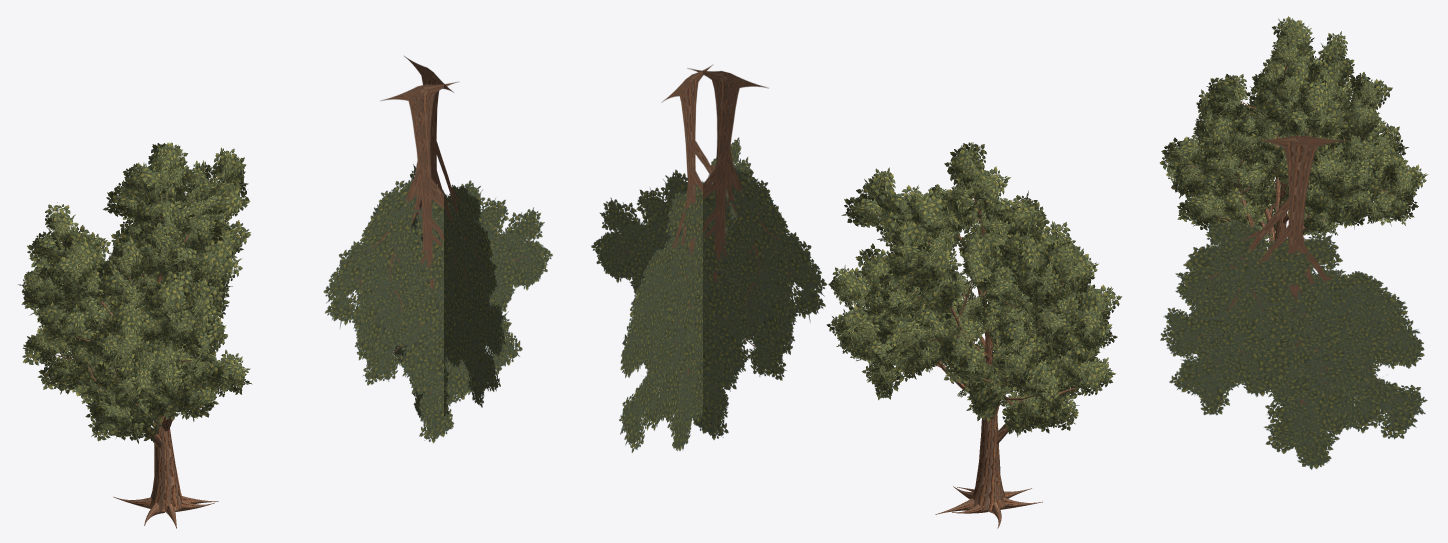
Rendered from tree9.glb.
The picture shows the model from 3 angles, left to right: view 1: azimuth 30°, elevation 25°; view 2: azimuth 150°, elevation 25°; view 3: azimuth 270°, elevation 25°; orthographic projection. The views are drawn at different scales.
Parts seen in each view (by area): view 1: Tree9_High, Empty.017; view 2: Tree9_High, Empty.017; view 3: Empty.017, Tree9_High.
Part boxes in pixels (<box>): Tree9_High: <box>18,142,252,528</box>; Empty.017: <box>323,56,552,443</box>; Tree9_High: <box>826,142,1121,528</box>; Empty.017: <box>591,64,827,452</box>; Empty.017: <box>1160,135,1427,469</box>; Tree9_High: <box>1159,16,1428,255</box>.
Bounding box in the file's own units: 97.44 × 67.19 × 49.27.
3 materials, 3 textured.
